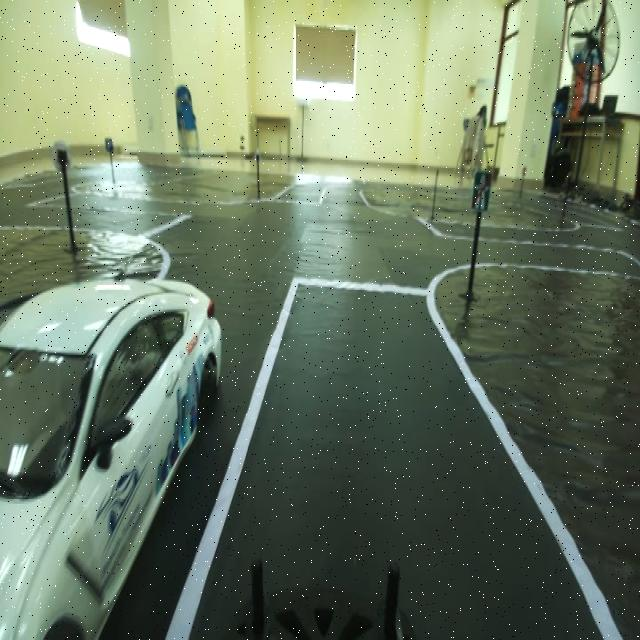car: (8, 240, 224, 628)
highway_exit: (472, 162, 498, 224)
